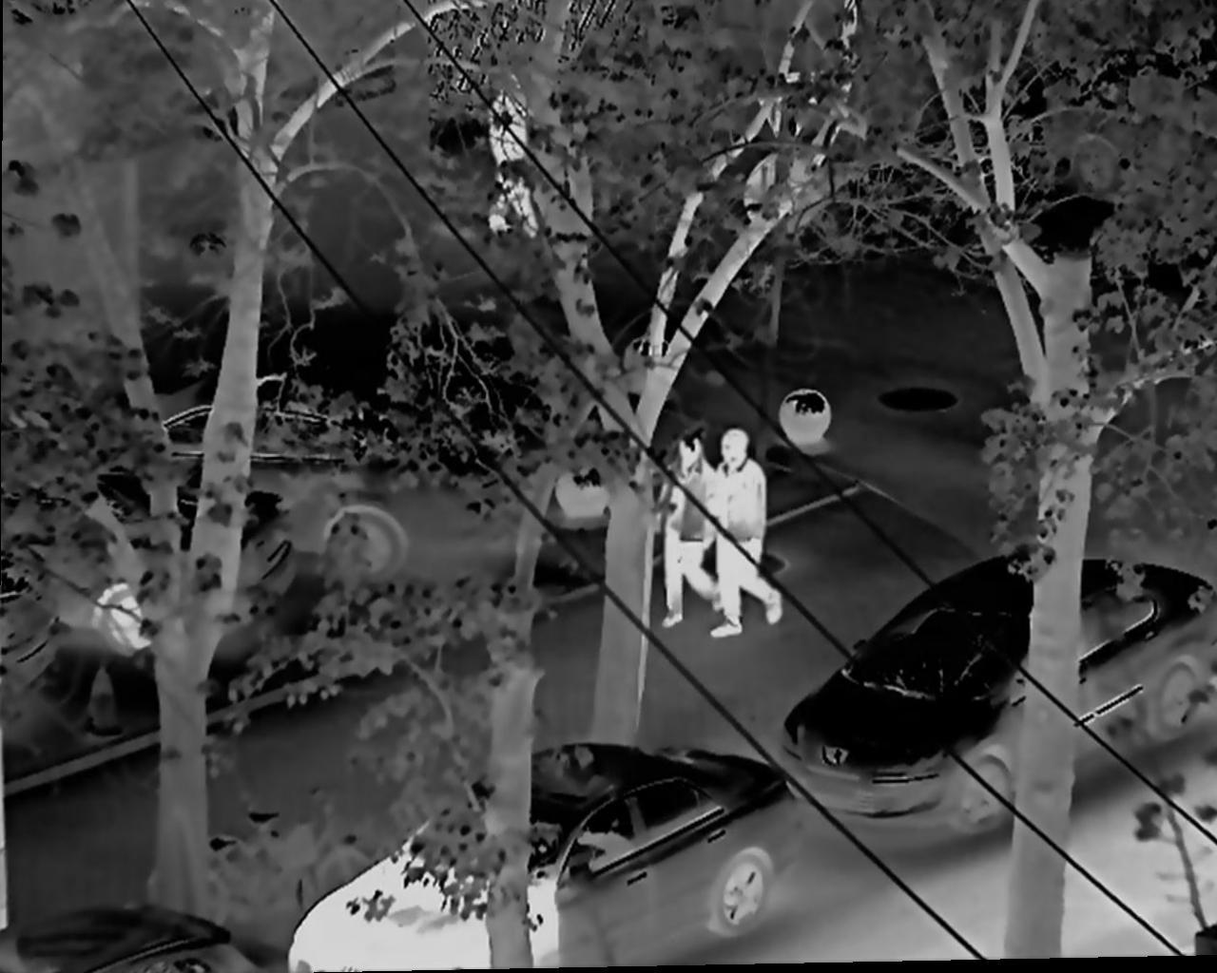person: (711, 429, 781, 637), (662, 438, 719, 629), (489, 71, 538, 237)
